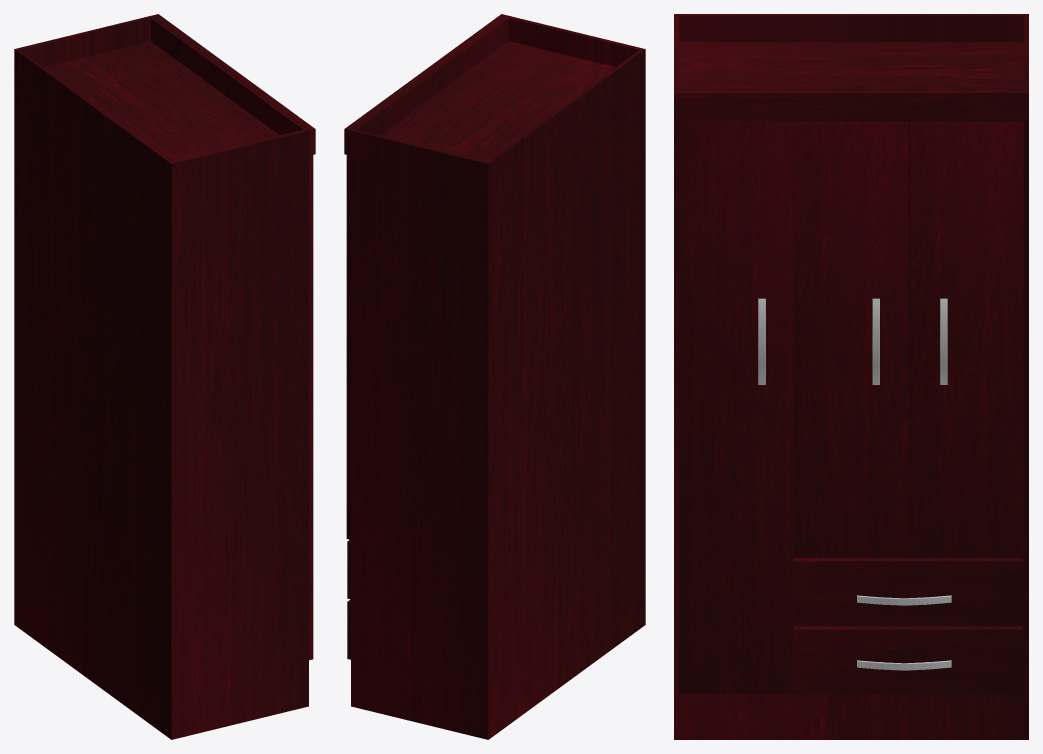
File: Small Wooden Wardrobe.glb
3 views of the same model, side by side, from view 1: azimuth 30°, elevation 25°; view 2: azimuth 150°, elevation 25°; view 3: azimuth 270°, elevation 25° (orthographic). The views are drawn at different scales.
Visible parts, largest first — view 1: Cube, Cube.002, Cube.001; view 2: Cube, Cube.004, Cube.001; view 3: Cube.002, Cube, Cube.003, Cube.004, Cube.005, Cube.006, Cube.001, Cube.016, Cube.019, Cube.007, Cube.010, Cube.013.
Boxes of the visible parts, box(x1,y1,x2,y2) form: Cube: box(14, 15, 308, 739); Cube.002: box(309, 155, 313, 660); Cube.001: box(152, 14, 315, 155); Cube: box(351, 15, 645, 739); Cube.004: box(346, 155, 350, 539); Cube.001: box(344, 14, 507, 155); Cube.002: box(678, 122, 792, 693); Cube: box(674, 14, 1028, 739); Cube.003: box(794, 122, 908, 557); Cube.004: box(909, 122, 1023, 557); Cube.005: box(794, 558, 1022, 625); Cube.006: box(794, 626, 1022, 693); Cube.001: box(674, 90, 1028, 121); Cube.016: box(857, 595, 951, 605); Cube.019: box(857, 660, 951, 670); Cube.007: box(758, 298, 765, 384); Cube.010: box(872, 298, 879, 384); Cube.013: box(940, 298, 947, 384).
Bounding box in the file's own units: 0.497 × 1.82 × 0.9.
10 materials, 7 textured.
